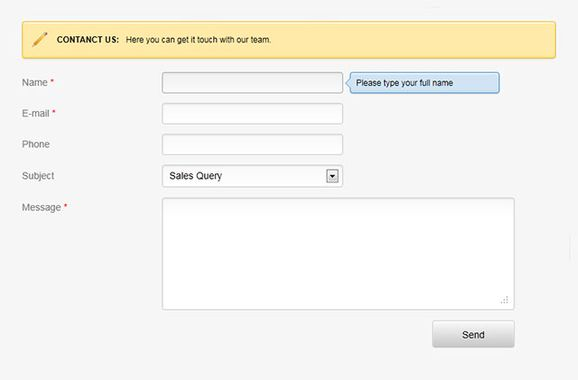_form_: (124, 1, 540, 380), (1, 1, 416, 380)
button: (431, 319, 517, 351)
field: (161, 197, 515, 312), (160, 102, 345, 126), (161, 70, 345, 94), (160, 133, 344, 156)
field_with_label: (23, 196, 517, 313), (21, 161, 347, 190), (21, 100, 347, 128), (23, 69, 348, 96), (22, 132, 346, 158)
select: (159, 162, 345, 188)
